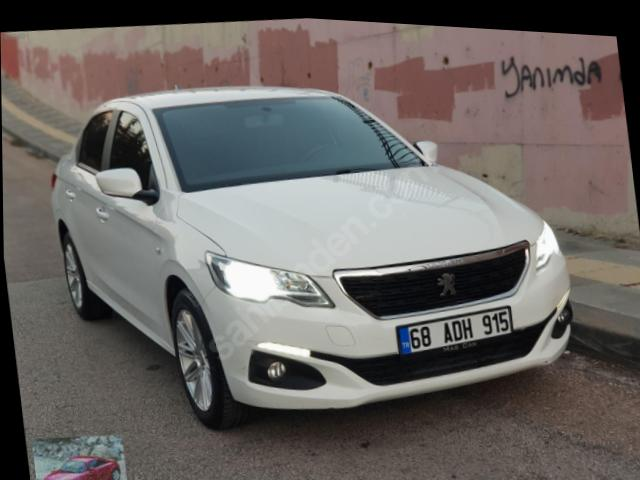plaka: (397, 306, 514, 354)
